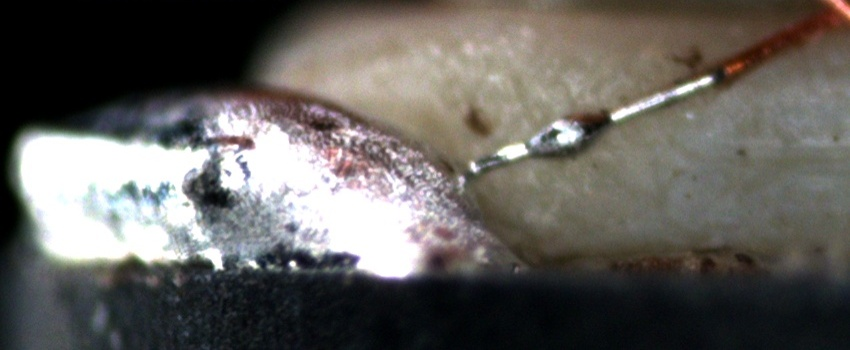DL: (677, 122, 850, 186)
TB: (526, 105, 608, 168)
TS: (465, 72, 719, 177)
TTCW: (454, 33, 774, 179)
